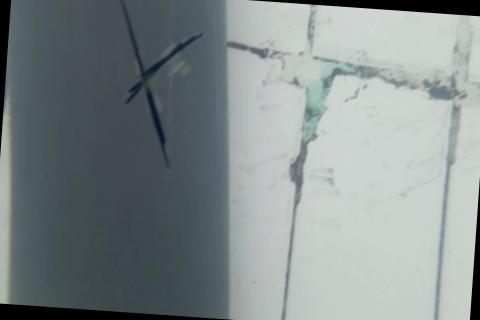keretakan: (92, 0, 204, 177)
